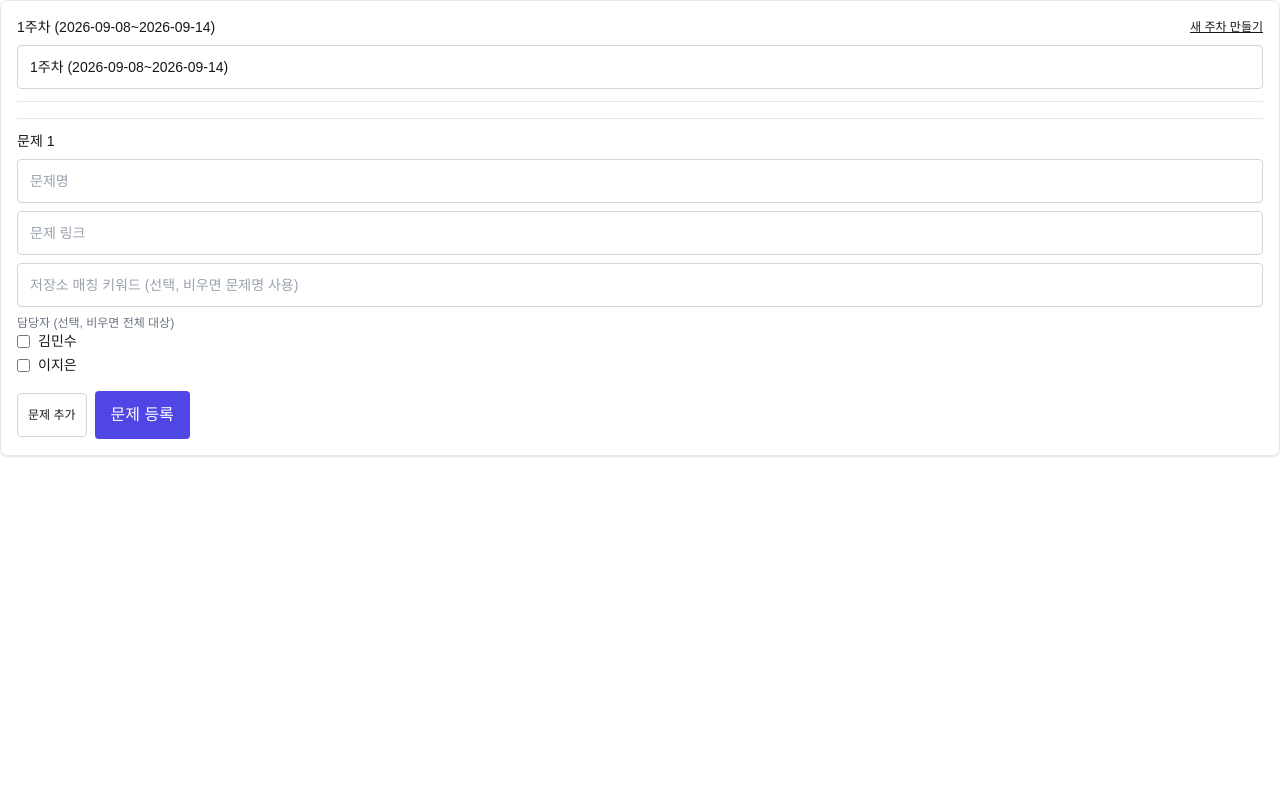
it: ProblemForm › suffixes each row's field names with its row id and keeps rowIds in sync
Click the button "문제 추가" at (52,415), box [17, 393, 86, 437]
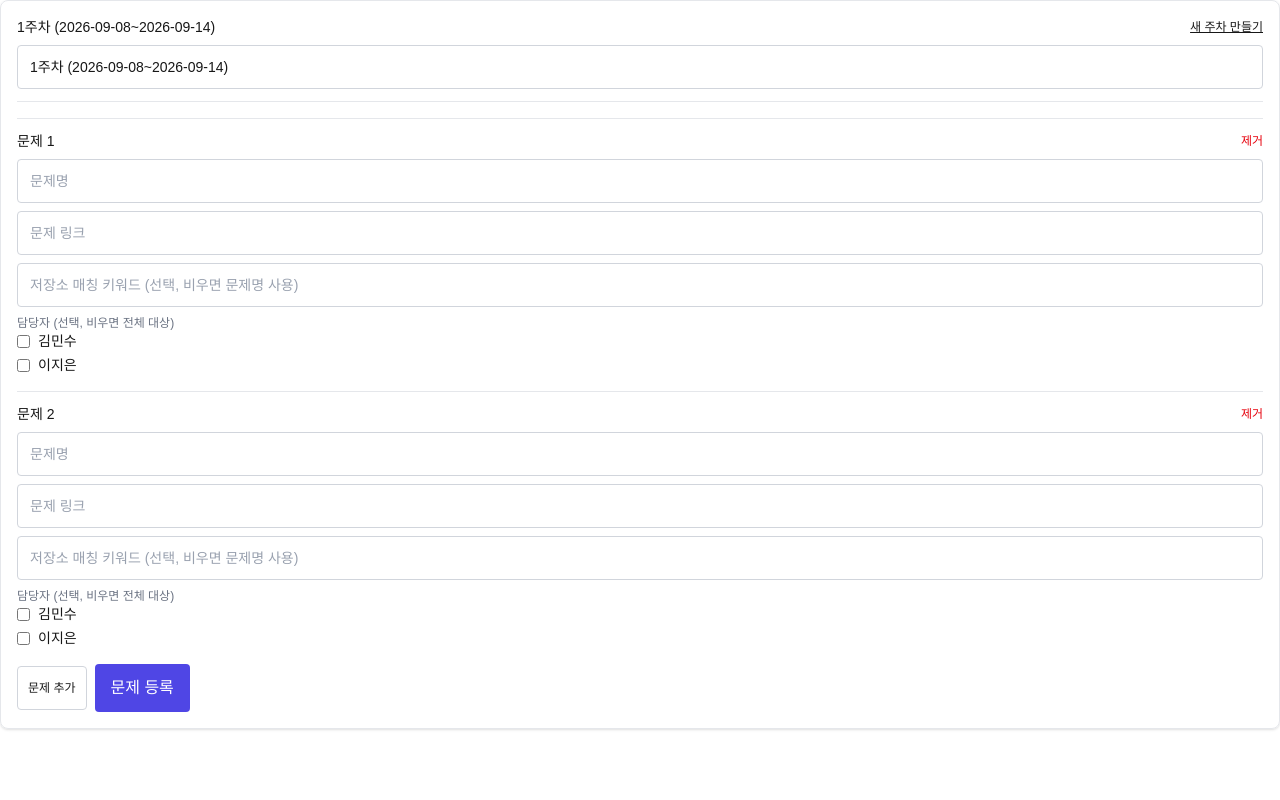
Check: the field named "title-row-2" is shown, box [17, 432, 1263, 476]
Check: the field named "link-row-2" is shown, box [17, 484, 1263, 528]
Check: the number of checkboxes named "assigneeIds-row-2" is 2, box [17, 608, 30, 620]; [17, 632, 30, 644]
